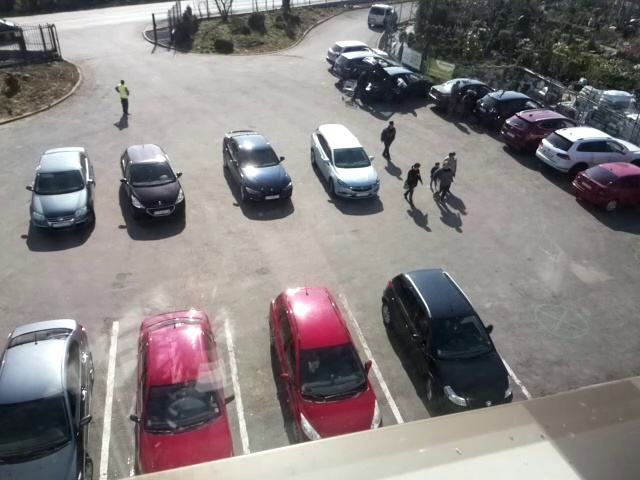car: (381, 268, 514, 415), (268, 284, 381, 444), (135, 310, 234, 480), (1, 318, 91, 477), (28, 144, 94, 231), (220, 128, 293, 204), (311, 123, 381, 199), (118, 143, 185, 222), (533, 124, 640, 173), (501, 106, 594, 150), (567, 160, 640, 209), (472, 88, 553, 123), (365, 60, 435, 98), (429, 77, 509, 108), (333, 50, 407, 78), (326, 40, 390, 68), (365, 2, 396, 26), (1, 19, 25, 43)
